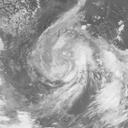cyclone: (27, 20, 106, 89)
